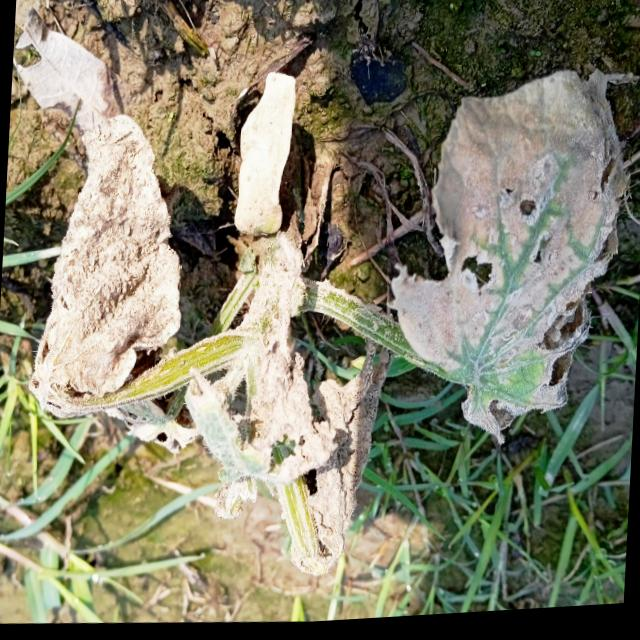Bacterial-Wilt: (27, 111, 182, 412), (307, 343, 397, 580)
